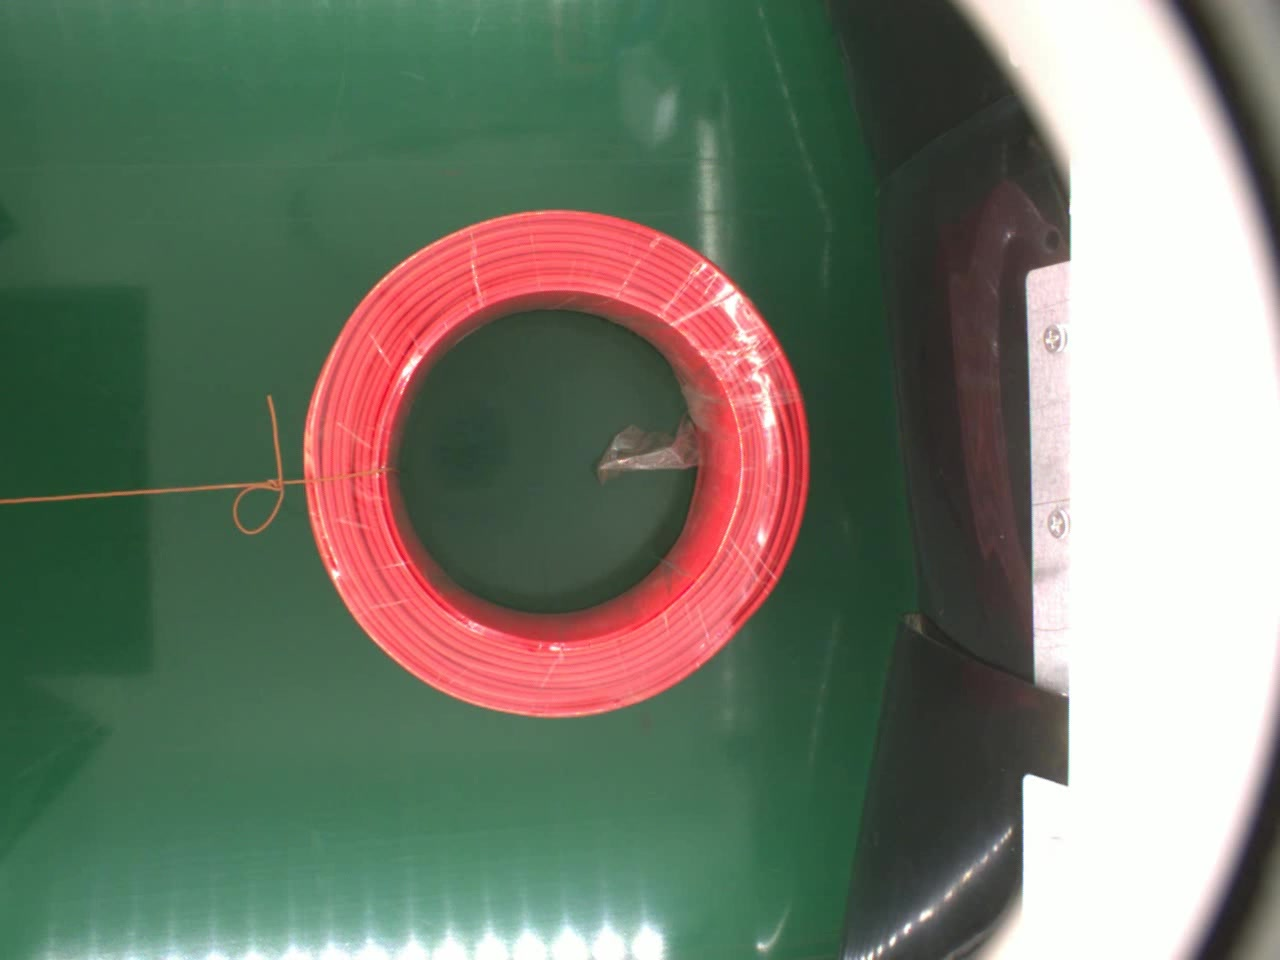red: (297, 201, 820, 717)
